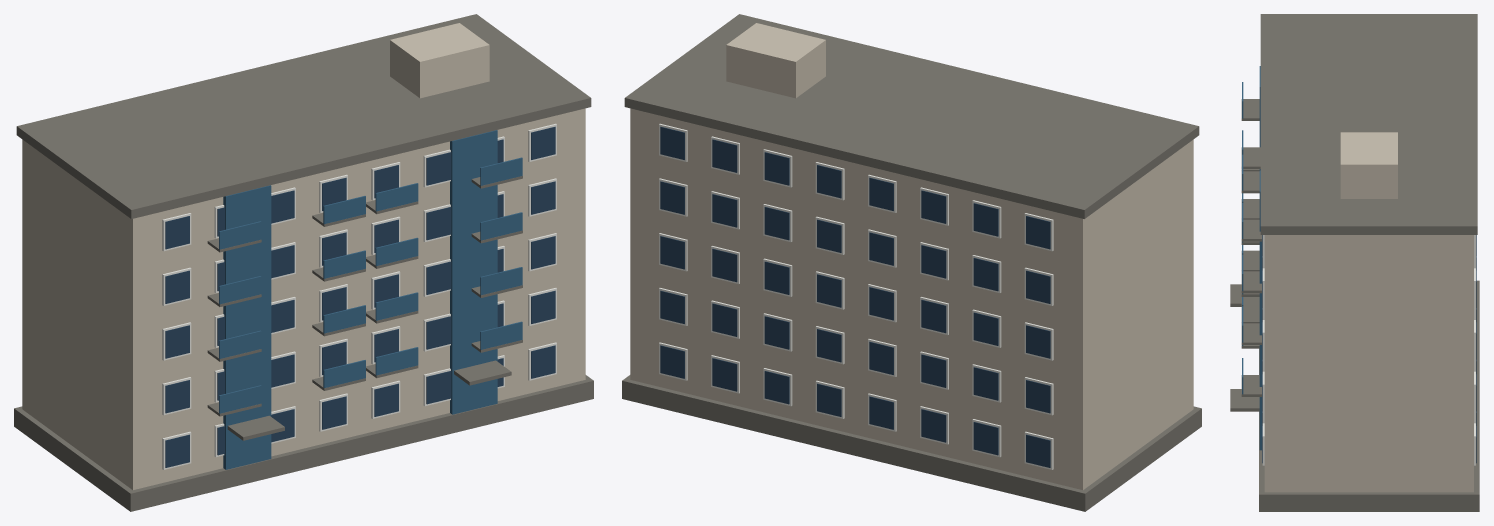
The model's file is apt5.glb.
3 renders of one model, left to right at view 1: azimuth 30°, elevation 25°; view 2: azimuth 150°, elevation 25°; view 3: azimuth 270°, elevation 25°, orthographic. The views are drawn at different scales.
Visible parts, largest first — view 1: Apartment; view 2: Apartment; view 3: Apartment.
Part boxes in pixels (x1,y1,x2,y2): Apartment: (14,14,593,511); Apartment: (622,14,1201,511); Apartment: (1230,14,1479,511).
Bounding box in the file's own units: 26.6 × 18.5 × 13.1.
